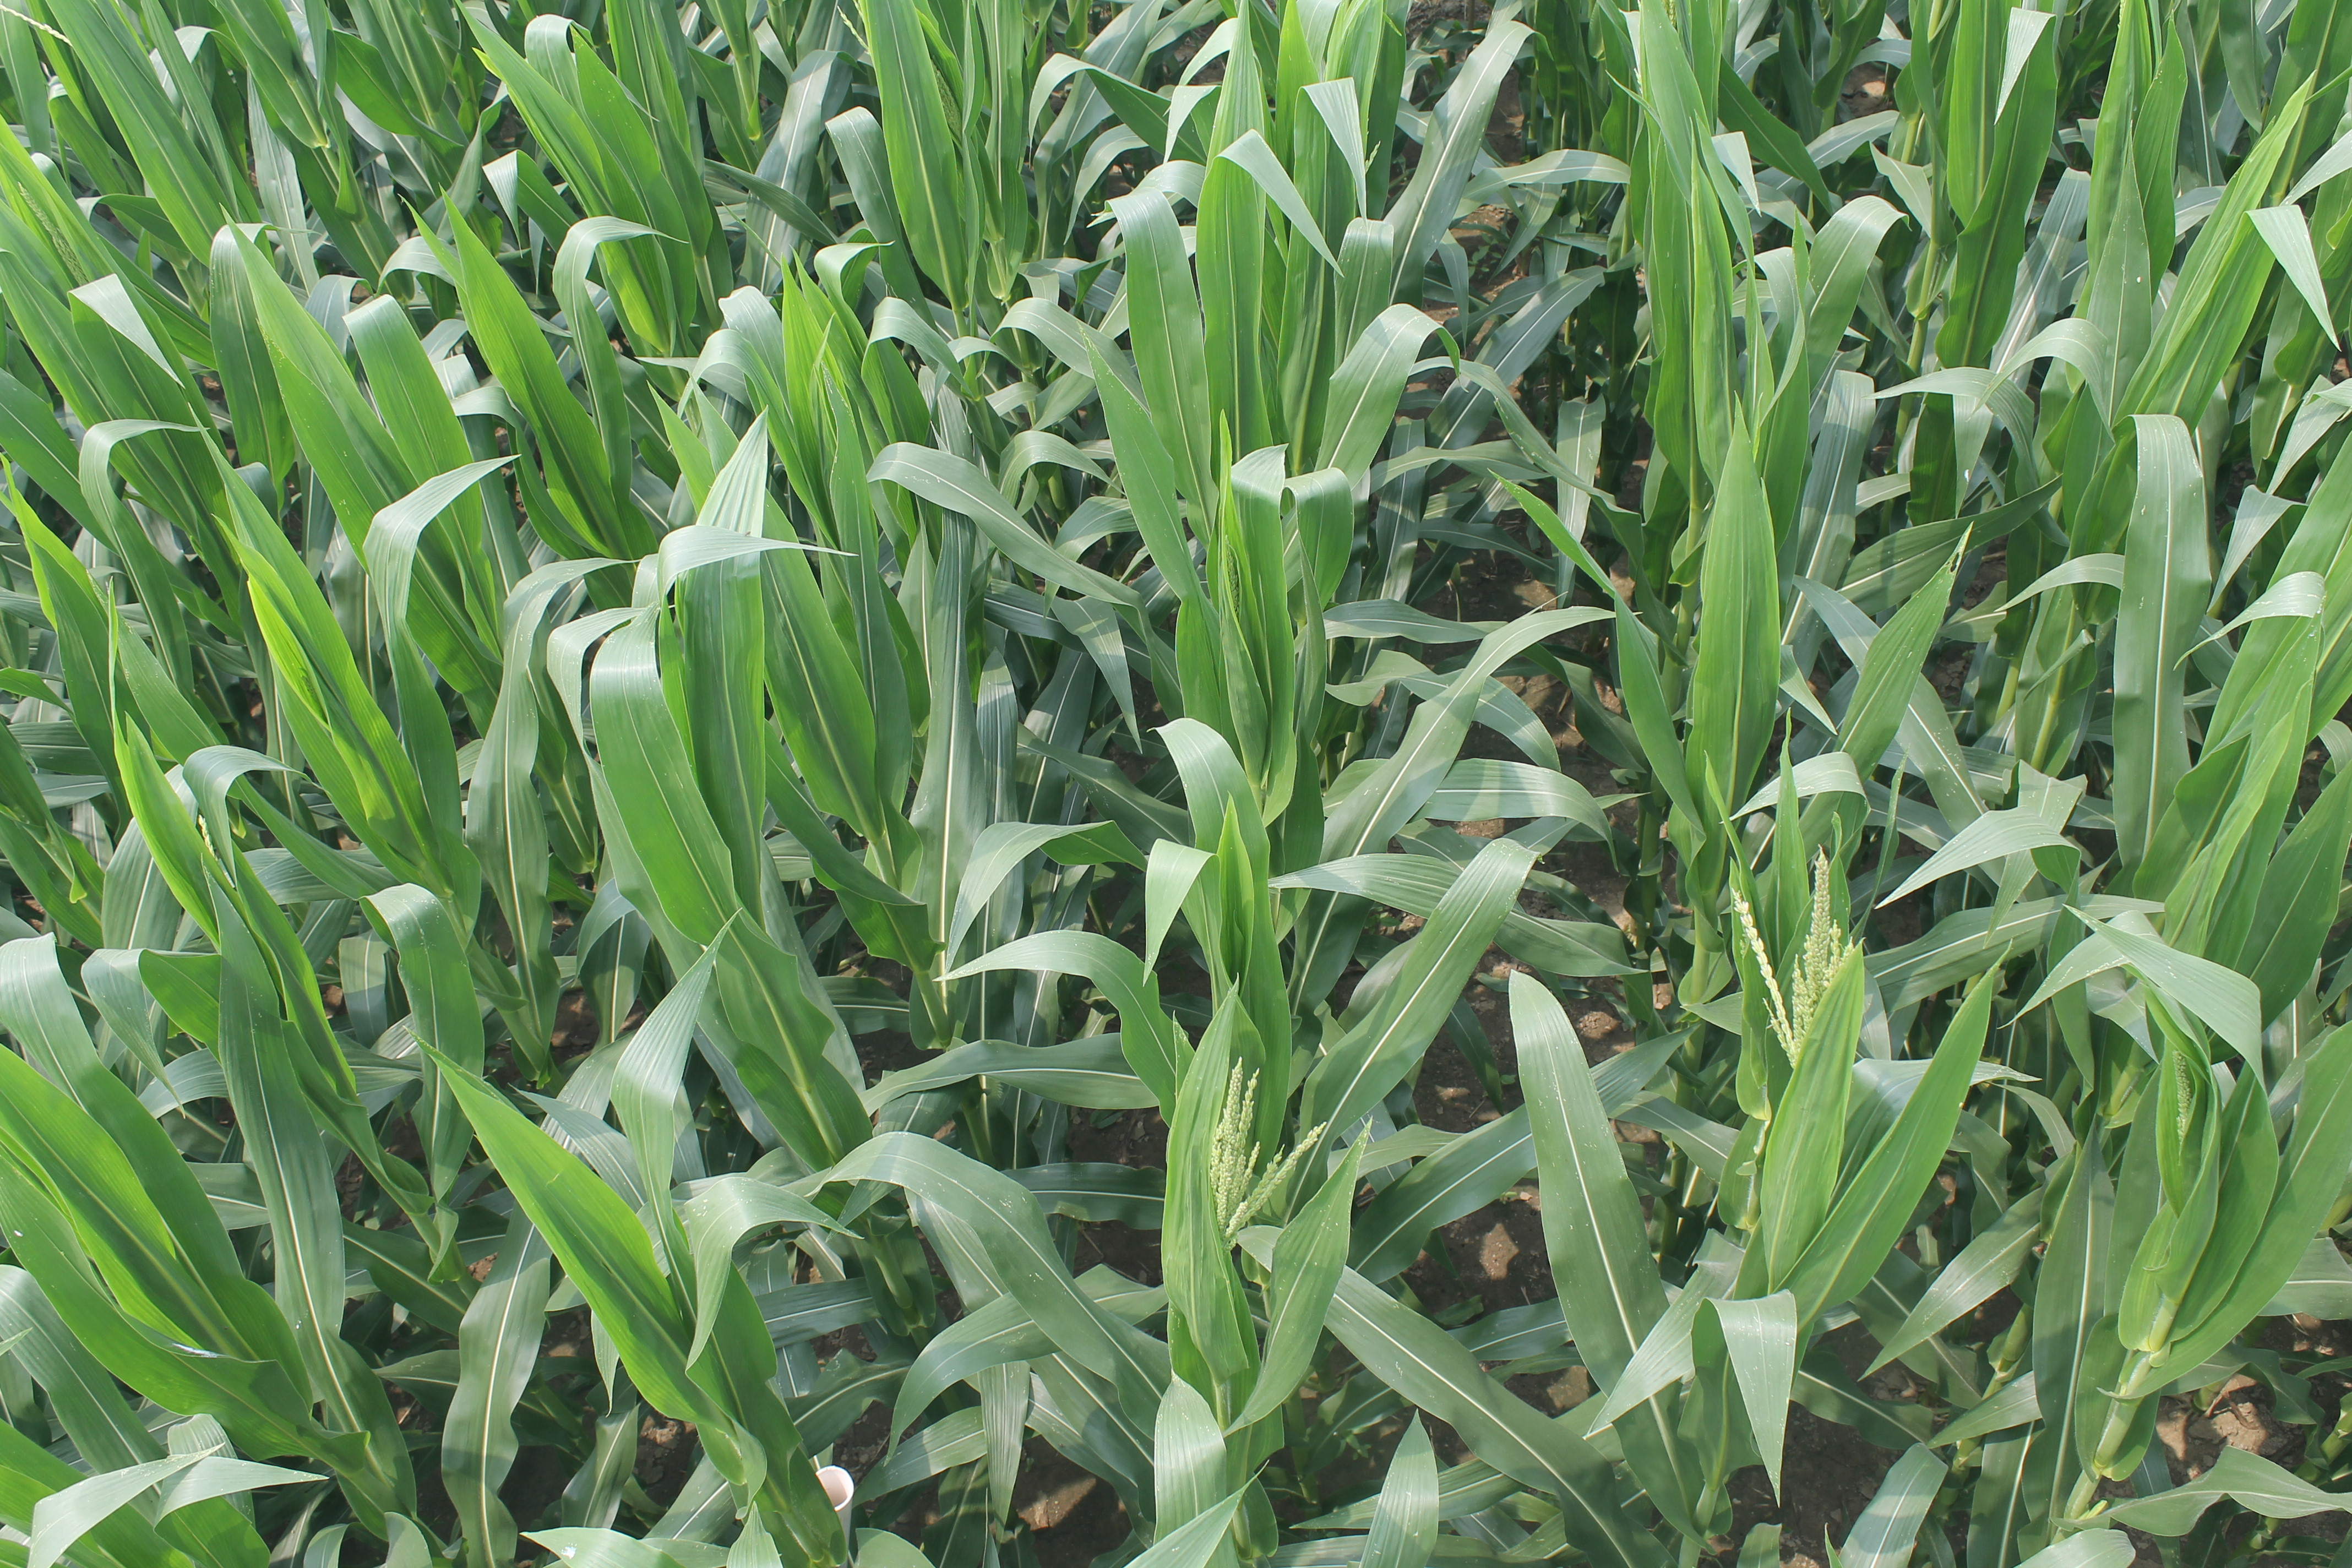Maize: (1734, 850, 1832, 1053), (1211, 1066, 1325, 1230)
